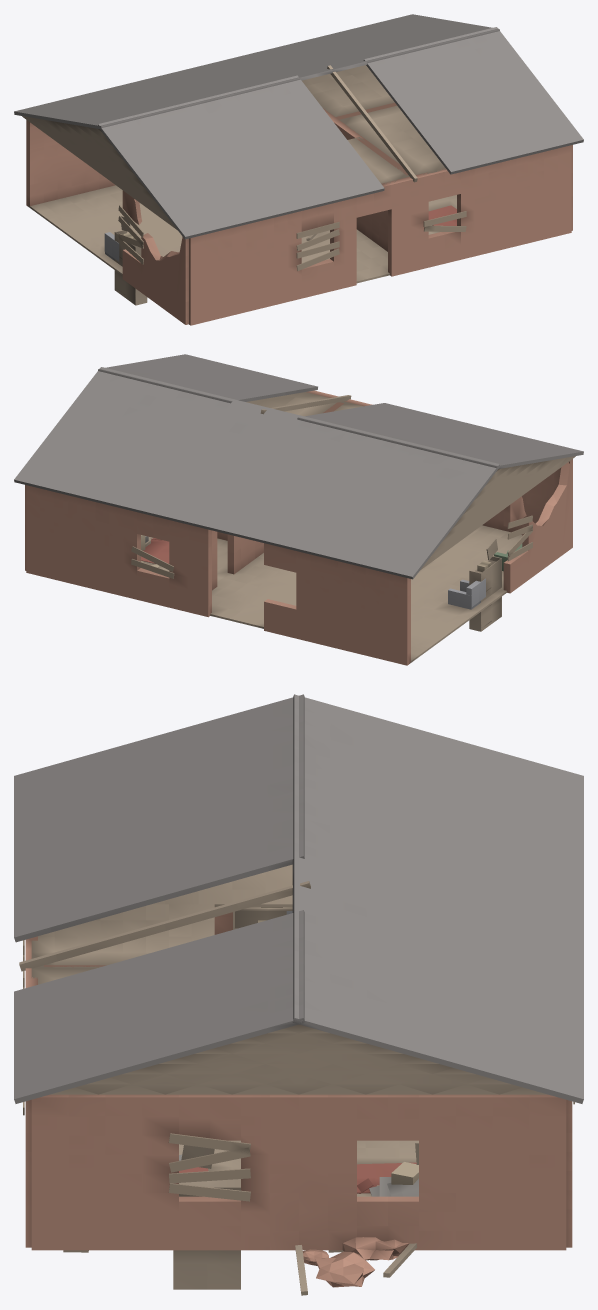
The model's file is casa_r11.glb.
3 renders of one model, top to bottom at view 1: azimuth 30°, elevation 25°; view 2: azimuth 150°, elevation 25°; view 3: azimuth 270°, elevation 25°, orthographic. The views are drawn at different scales.
Visible parts, largest first — view 1: telhado, ext0_0, chao, forro, ext0_3, ext0_2, telhado_oitao0, int_0, ext0_0_tabua_43, estante_sala1, telhado_vigas, ext0_3_tabua_63 (+1 smaller); view 2: telhado, ext0_2, chao, ext0_3, telhado_oitao0, ext0_0, estante_sala1, int_0, forro, movel_sala2, ext0_3_tabua_63, ext0_2_tabua_43 (+2 smaller); view 3: telhado, ext0_1, telhado_oitao2, forro, entulho_fora, ext0_1_tabua_31, guarda_roupa_frente2, telhado_vigas, chao, ext0_0, ext0_2, estante_sala1.
Boxes of the visible parts, x1,y1,x2,y2 form: telhado: (14,14,583,239); ext0_0: (189,145,571,325); chao: (28,185,456,283); forro: (302,65,445,184); ext0_3: (122,190,188,324); ext0_2: (26,120,115,206); telhado_oitao0: (22,116,177,230); int_0: (323,108,407,251); ext0_0_tabua_43: (296,222,339,270); estante_sala1: (114,230,147,305); telhado_vigas: (327,65,417,182); ext0_3_tabua_63: (118,205,143,264); telhado: (14,354,583,579); ext0_2: (26,485,410,665); chao: (143,525,522,662); ext0_3: (503,459,572,593); telhado_oitao0: (420,456,575,570); ext0_0: (306,390,561,534); estante_sala1: (469,556,501,631); int_0: (212,402,343,590); forro: (246,392,363,416); movel_sala2: (448,578,485,609); ext0_3_tabua_63: (507,515,533,561); ext0_2_tabua_43: (131,546,174,578); telhado: (14,694,583,1103); ext0_1: (31,1094,566,1250); telhado_oitao2: (50,1024,547,1094); forro: (31,864,292,984); entulho_fora: (295,1237,417,1295); ext0_1_tabua_31: (168,1133,250,1201); guarda_roupa_frente2: (173,1179,240,1289); telhado_vigas: (19,881,310,971); chao: (179,1140,418,1196); ext0_0: (25,936,37,1247); ext0_2: (566,1100,572,1247); estante_sala1: (233,907,292,929).
Size of what is drawn, in the model's own units: 15.38 by 5.61 by 10.13.
